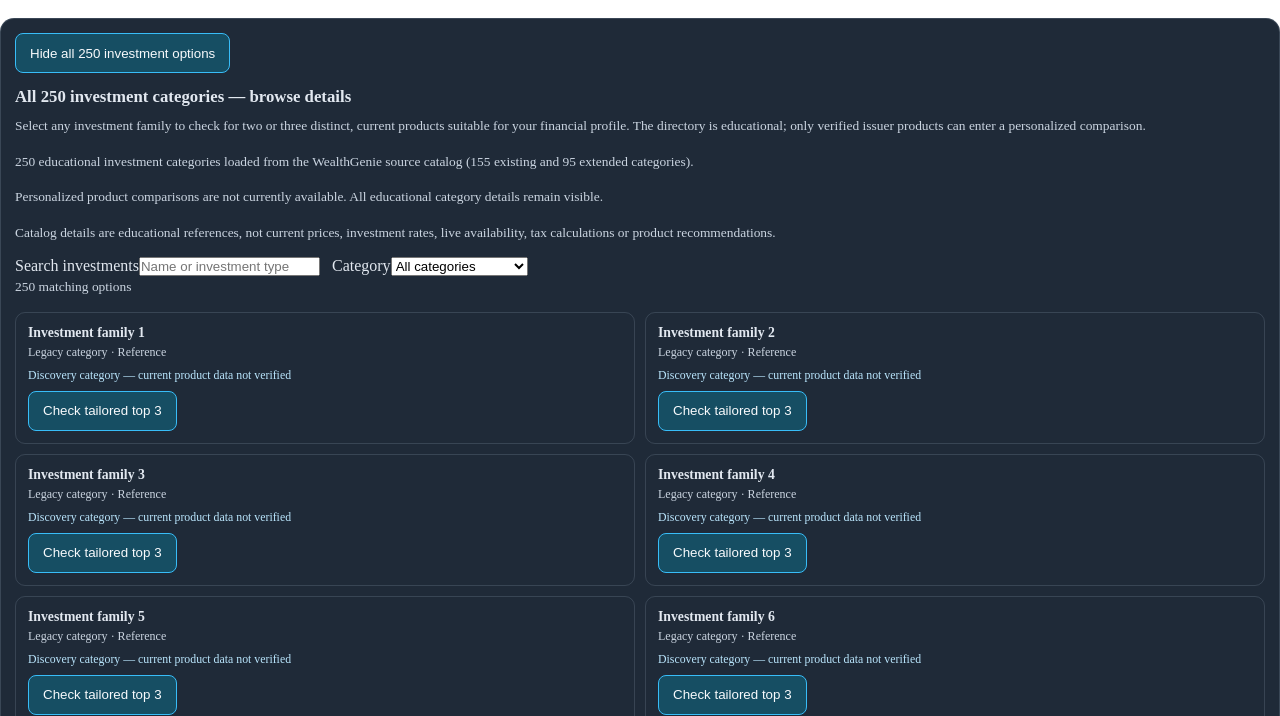
Test case: all 250 investment categories are browseable without product approval › does not hide the directory when the qualified-product database fails
Expected: the text "Personalized product comparisons are not currently available" is shown, [15,189,603,204]
Click the button with aria-label "Check tailored top 3 for Investment family 1".
click(102, 410)  # box [28,390,176,430]
(page scrolled)
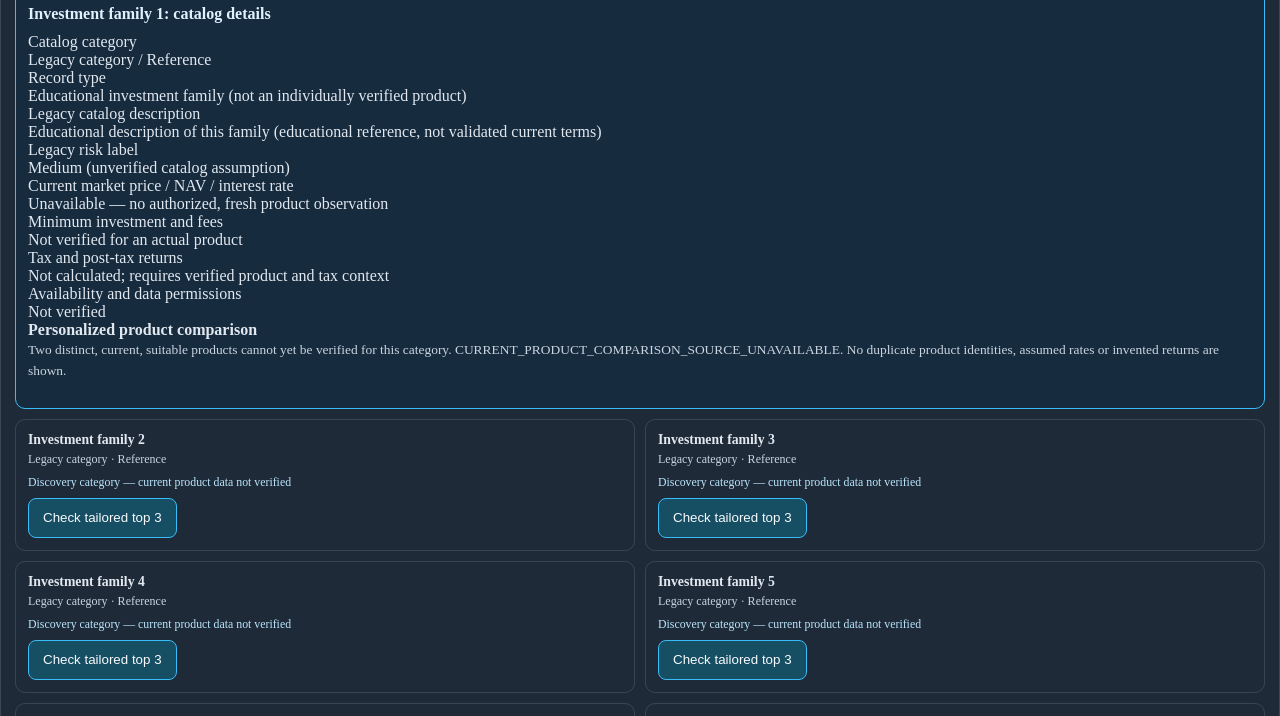
Now the text "CURRENT_PRODUCT_COMPARISON_SOURCE_UNAVAILABLE" is shown, box [455,342,840,356]
